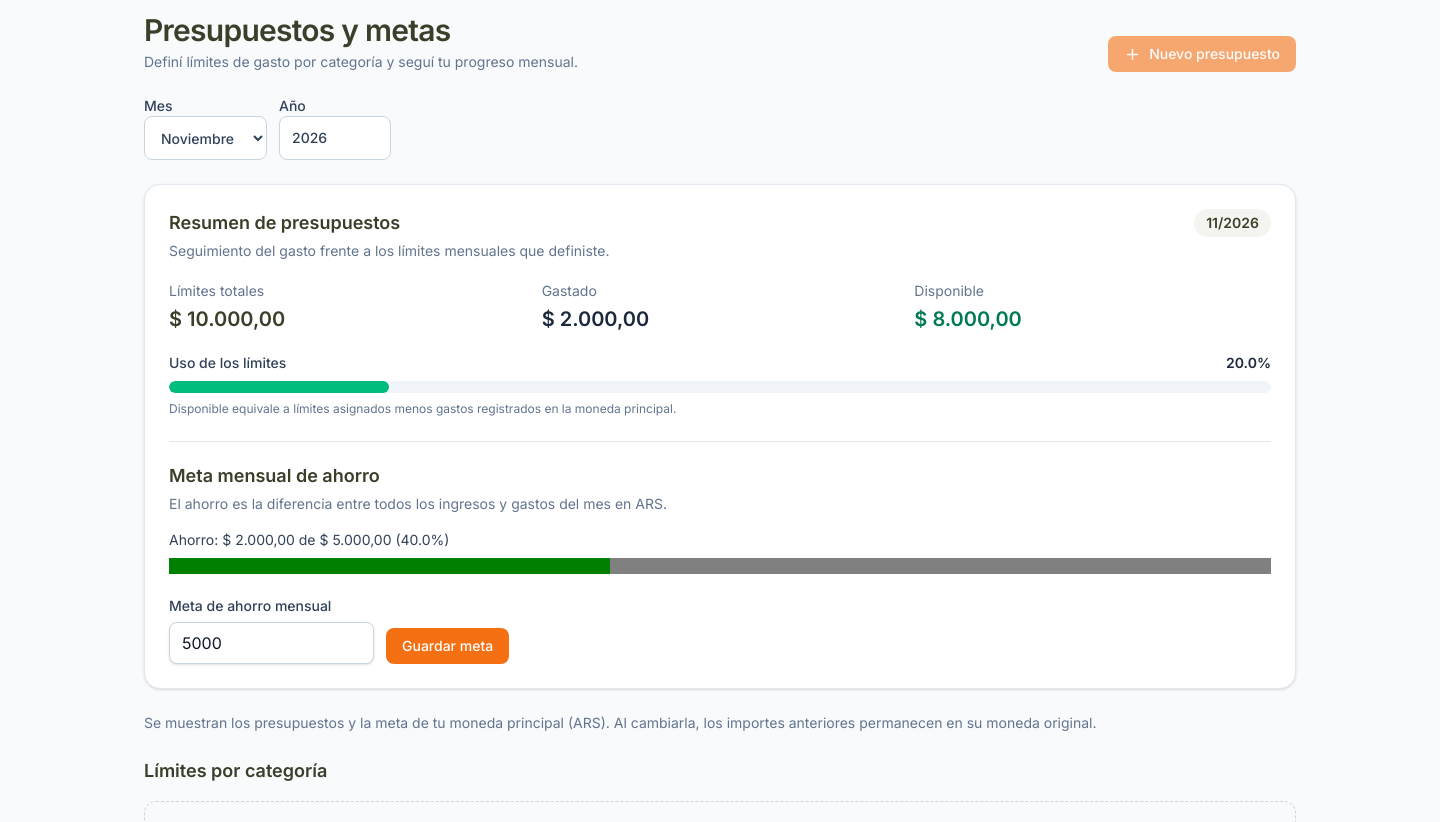
it: Presupuestos › oculta el período anterior si falla la carga del nuevo período
This screenshot has width=1440, height=822.
Check: the text "Ahorro: $ 2.000,00 de $ 5.000,00 (40.0%)" is shown, box [169,531,449,548]
Step 1. Select "Diciembre" in the dropdown labelled "Mes" → {"x": 206, "y": 138}, box [144,116,267,160]
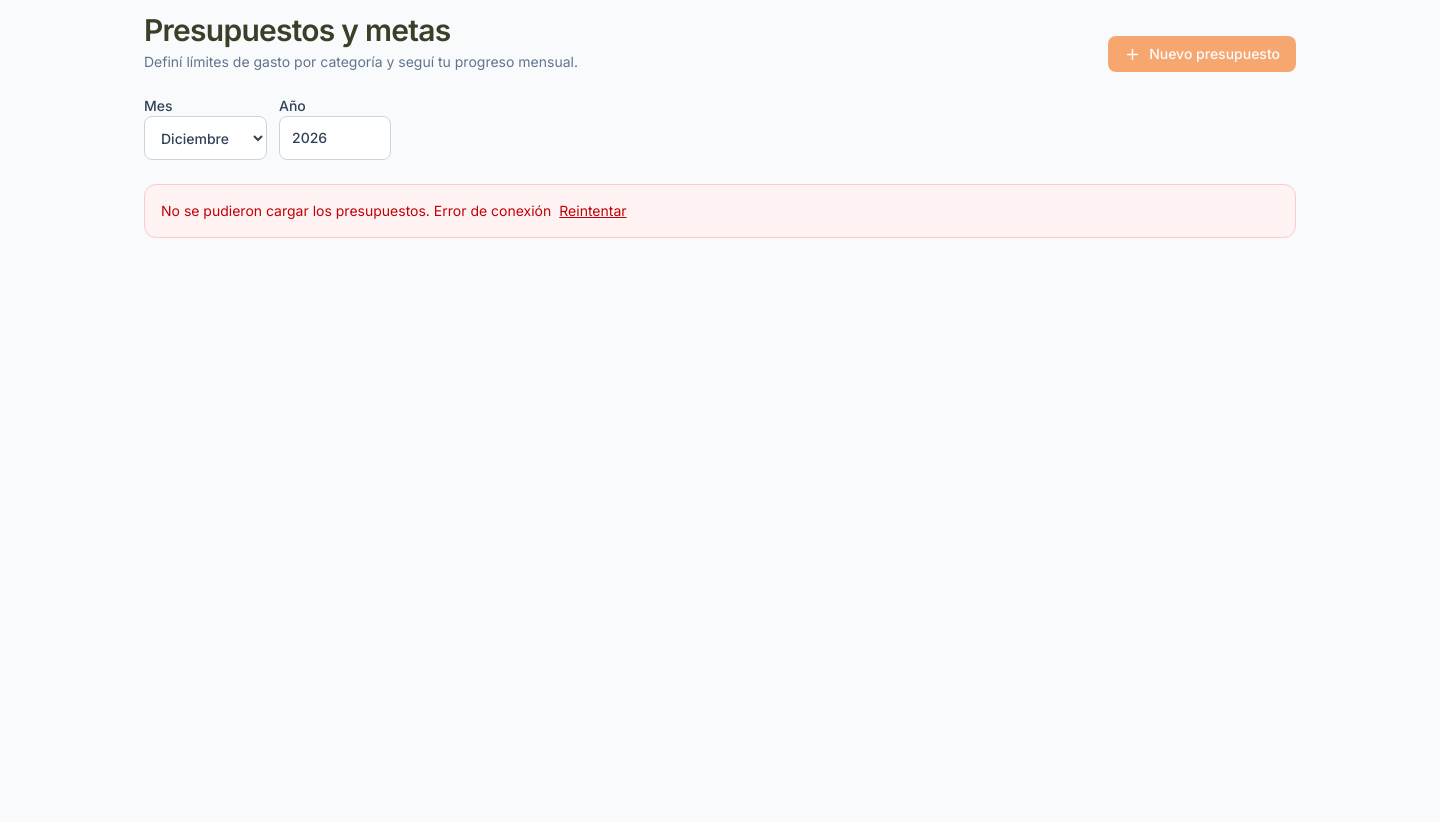
Check: the button "Nuevo presupuesto" is disabled, box [1108,36,1296,72]
Check: the message shows "Error de conexión", box [434,202,551,219]
Check: the text "40.0%" is gone
